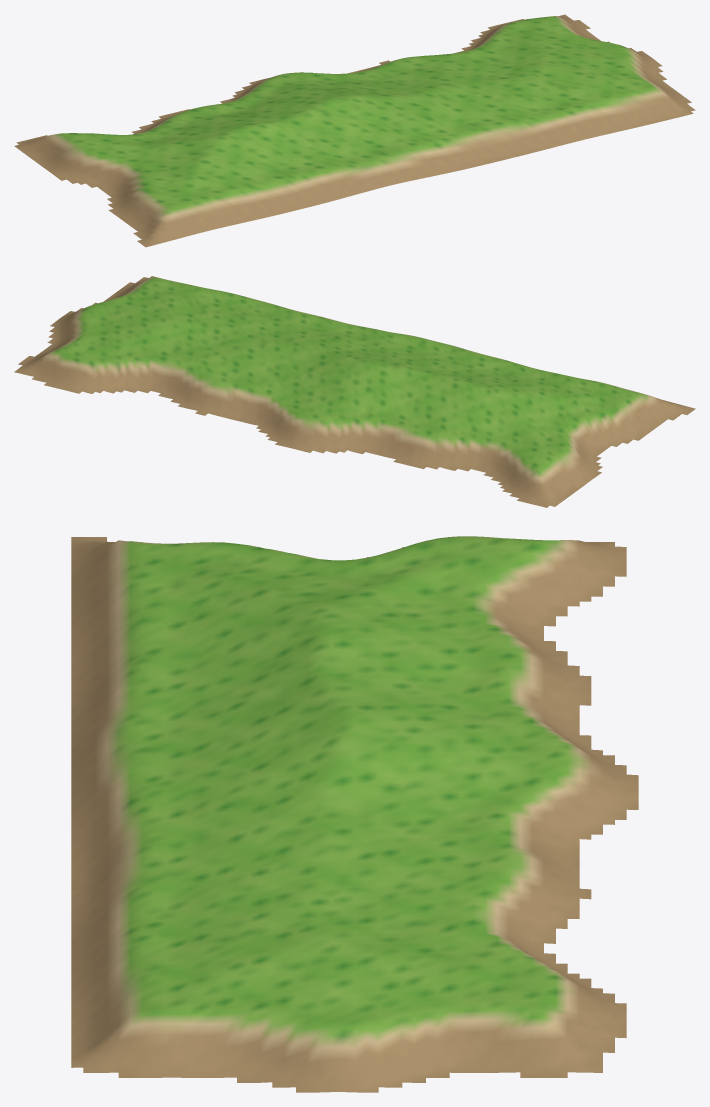
Rendered from river_bank_north.glb.
The picture shows the model from 3 angles, top to bottom: view 1: azimuth 30°, elevation 25°; view 2: azimuth 150°, elevation 25°; view 3: azimuth 270°, elevation 25°; orthographic projection. The views are drawn at different scales.
Visible parts, largest first — view 1: River_Bank_North_Ground; view 2: River_Bank_North_Ground; view 3: River_Bank_North_Ground.
Boxes of the visible parts, left/top/right/bottom form: River_Bank_North_Ground: left=14, top=14, right=695, bottom=247; River_Bank_North_Ground: left=14, top=276, right=695, bottom=507; River_Bank_North_Ground: left=71, top=536, right=638, bottom=1092.
Bounding box in the file's own units: 169 × 9.54 × 72.89.
